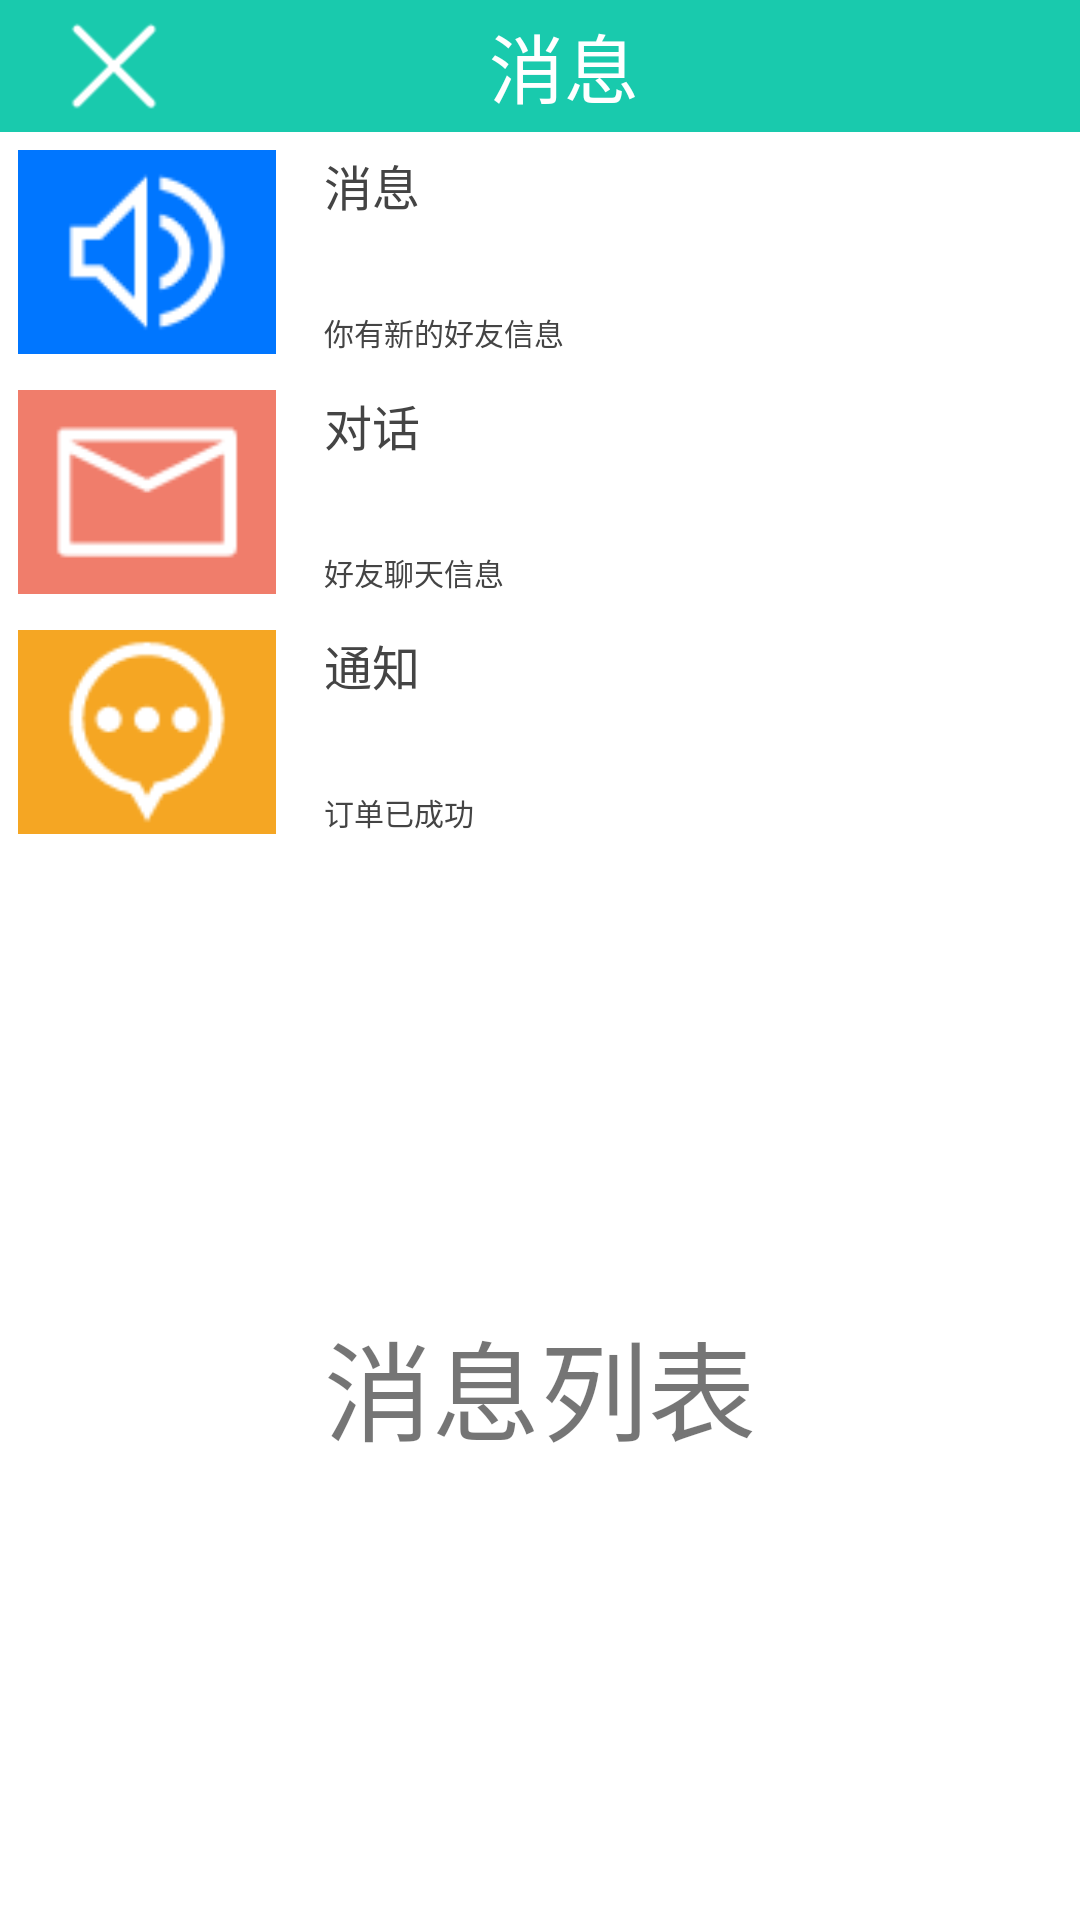

Icons on this 1080*1920 Android screen, each with its box as BBox(x1, y1, x2, y2):
close: BBox(71, 24, 157, 109)
